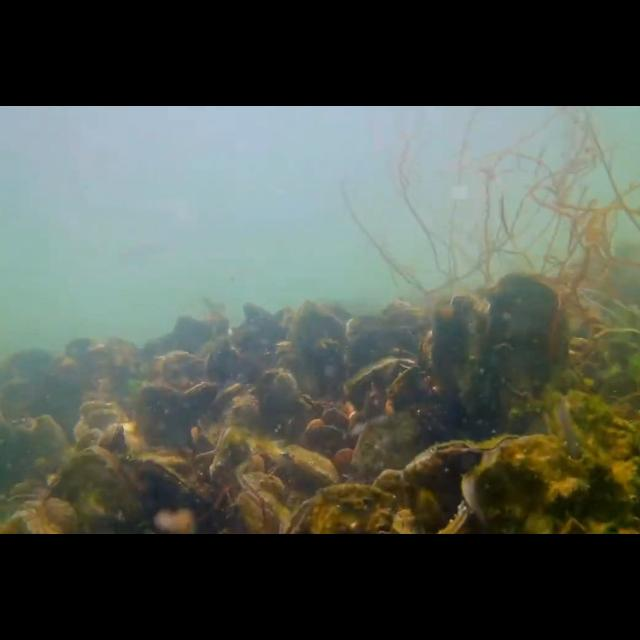Oyster-Closed: (372, 434, 522, 534), (142, 455, 216, 535), (237, 471, 290, 525), (208, 424, 252, 488)
Oyster-Indeterminate: (462, 434, 626, 534), (486, 273, 570, 402), (46, 447, 138, 535), (429, 292, 488, 400), (352, 412, 421, 480), (26, 416, 70, 490), (286, 444, 340, 488)
Oyster-Open: (342, 355, 422, 415)
